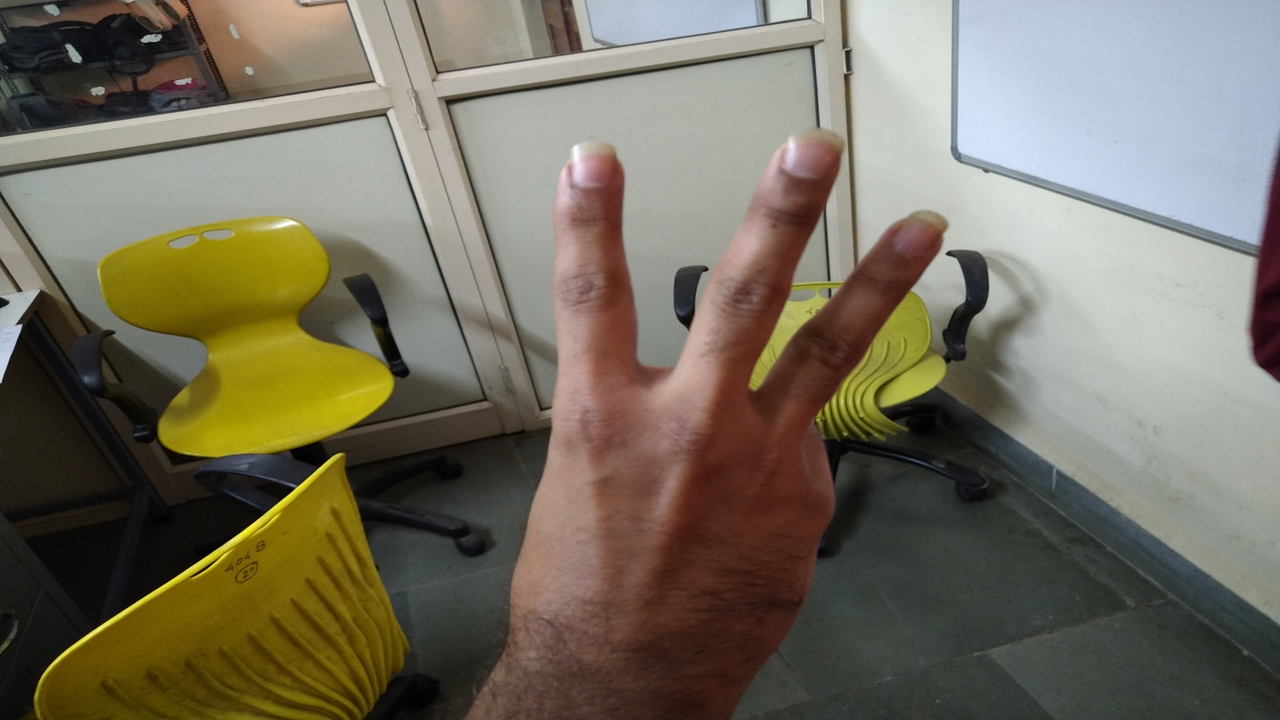fingertip: (762, 122, 852, 192), (550, 134, 628, 206), (884, 200, 960, 264)
